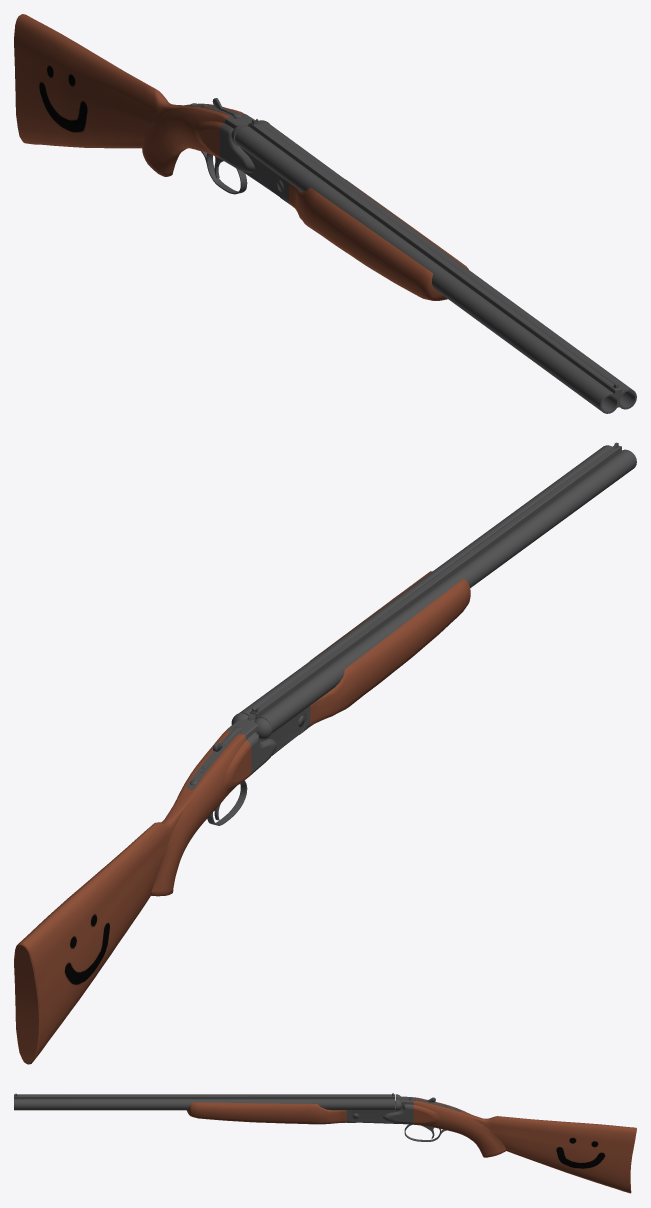
The model's file is o_p_001_shotgun_01_03.fbx.
3 renders of one model, top to bottom at view 1: azimuth 30°, elevation 25°; view 2: azimuth 150°, elevation 25°; view 3: azimuth 270°, elevation 25°, orthographic. The views are drawn at different scales.
Parts seen in each view (by area): view 1: shotgun; view 2: shotgun; view 3: shotgun.
Boxes of the visible parts, <box> form: shotgun: <box>14,14,636,413</box>; shotgun: <box>14,442,636,1064</box>; shotgun: <box>14,1093,636,1193</box>.
Bounding box in the file's own units: 5.45 × 19.71 × 112.
Materials: 1 (1 with a texture image).
